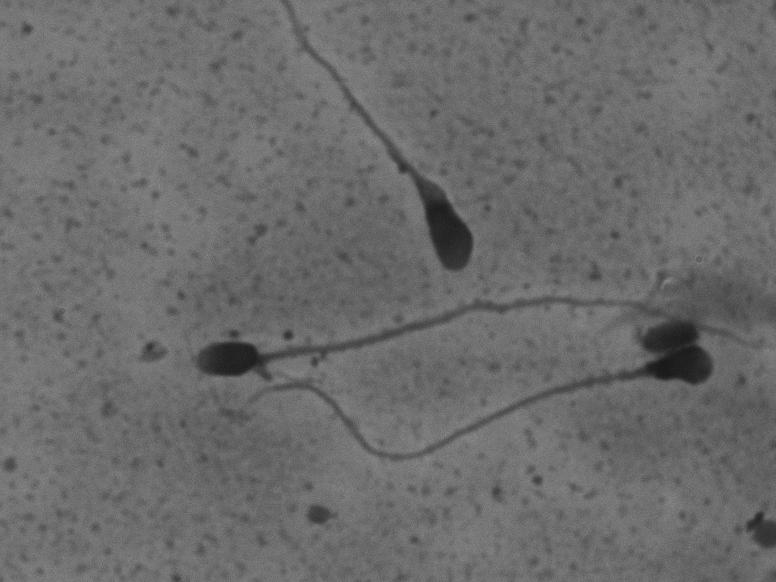Abnormal: (235, 339, 732, 489), (237, 5, 500, 278)
Normal: (176, 289, 766, 383)
